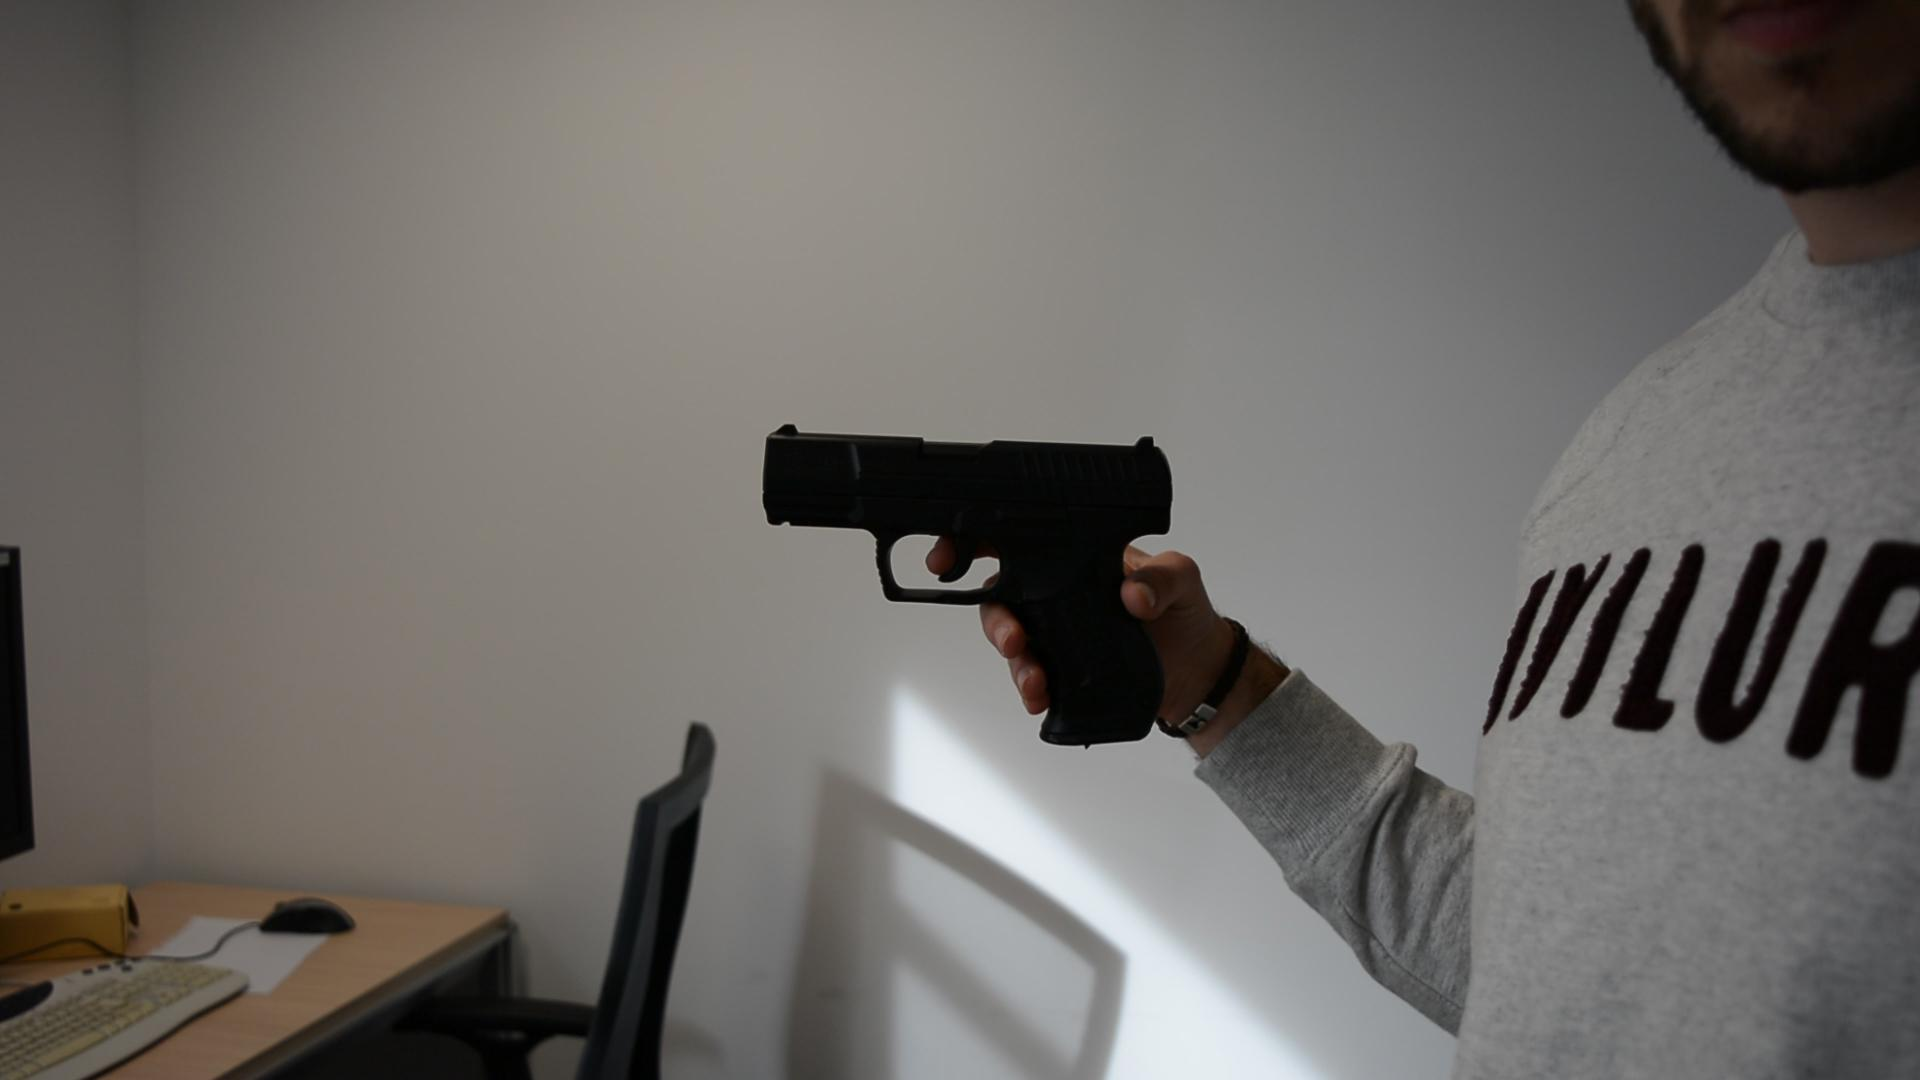criminal: (760, 0, 1920, 1080)
weapon: (760, 425, 1172, 746)
